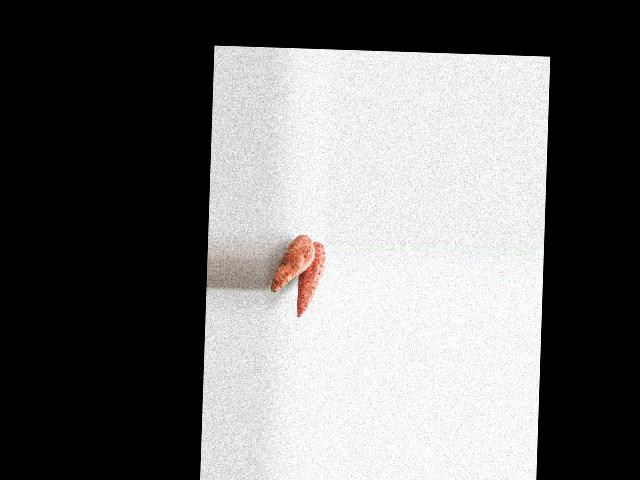sweet_potato: (296, 241, 325, 313)
